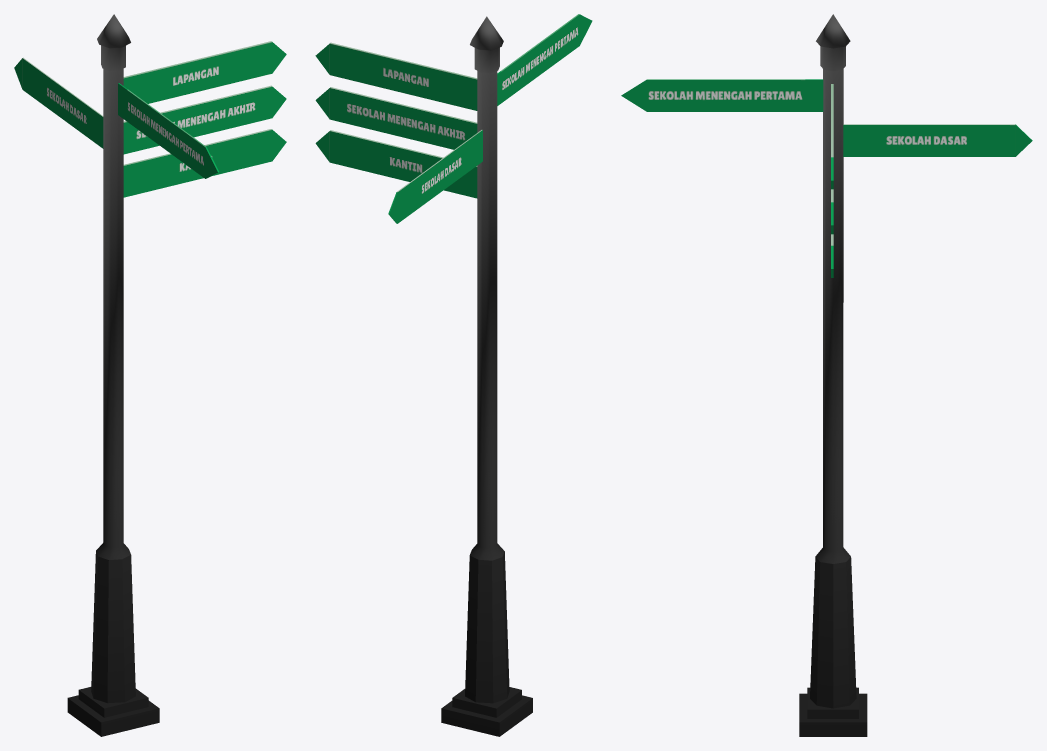
The model's file is PetunjukArah.fbx.
3 views of the same model, side by side, from view 1: azimuth 30°, elevation 25°; view 2: azimuth 150°, elevation 25°; view 3: azimuth 270°, elevation 25° (orthographic).
Parts seen in each view (by area): view 1: PetunjukArah_LOD0; view 2: PetunjukArah_LOD0; view 3: PetunjukArah_LOD0.
Part boxes in pixels (box(x1,y1,x2,y2)): PetunjukArah_LOD0: box(14, 14, 286, 736); PetunjukArah_LOD0: box(315, 14, 592, 736); PetunjukArah_LOD0: box(621, 14, 1032, 736).
Size of what is drawn, in the model's own units: 179 by 599 by 315.
